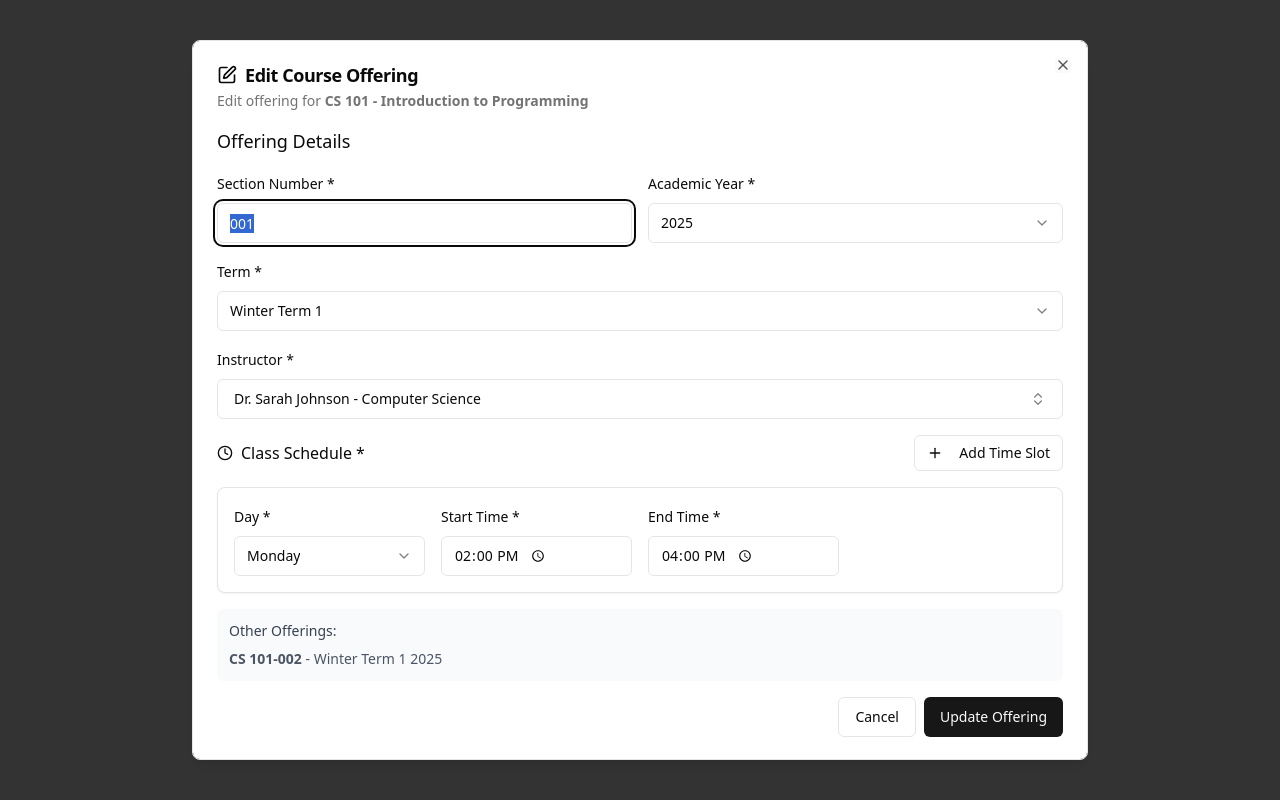
Test: EditOfferingModal › shows instructor selection
This screenshot has width=1280, height=800.
Click the dropdown labelled "Dr. Sarah Johnson - Computer Science". click: (292, 398)
box: [217, 379, 1063, 419]
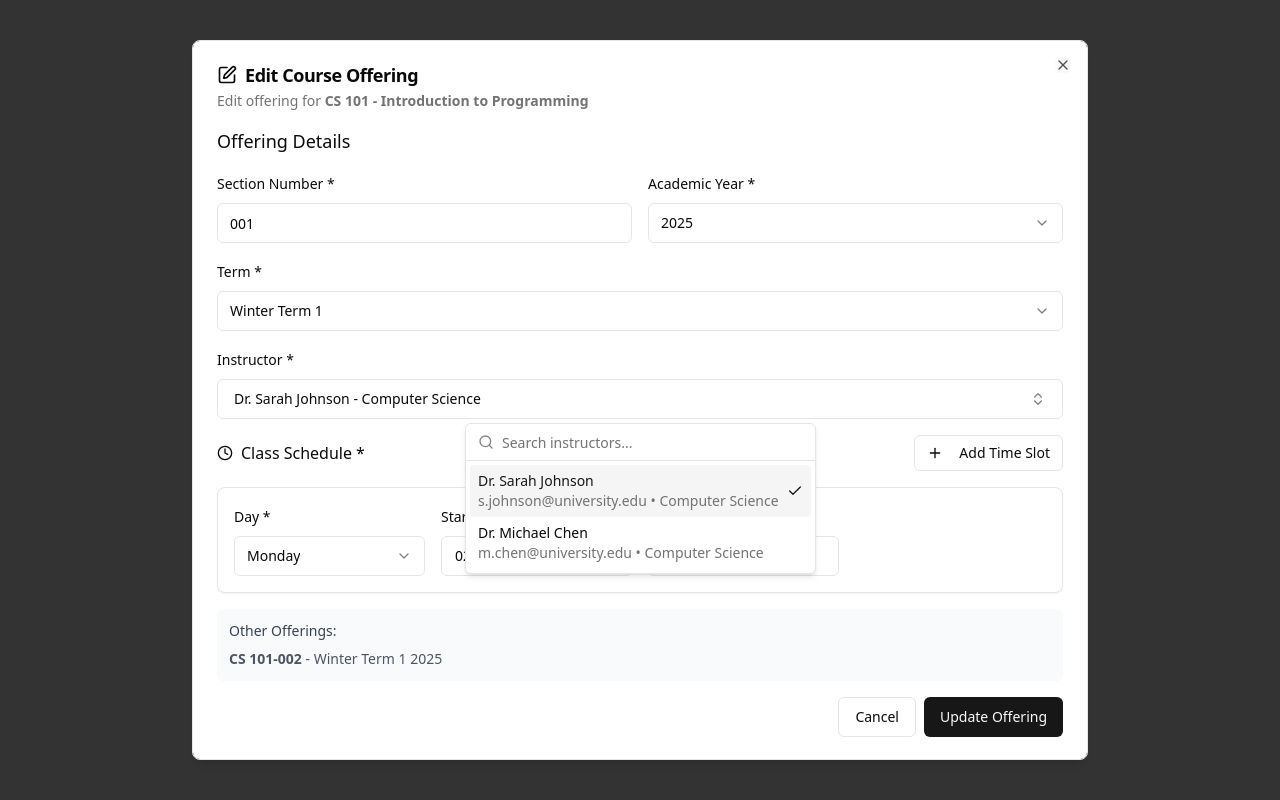
expect the text "Dr. Sarah Johnson" is shown: met, box [478, 471, 594, 490]
expect the text "Dr. Michael Chen" is shown: met, box [478, 523, 588, 542]
